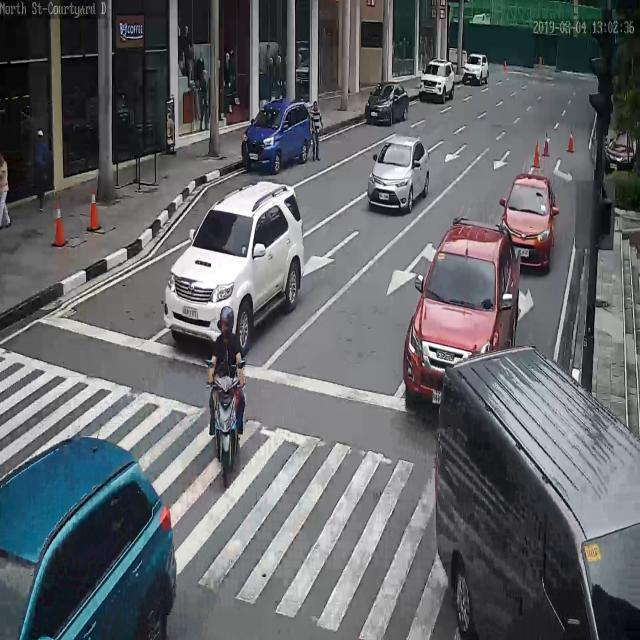bus: (434, 342, 640, 640)
car: (2, 443, 175, 639), (161, 183, 305, 348), (404, 227, 524, 398), (500, 175, 558, 270), (243, 100, 317, 173), (368, 136, 432, 213), (366, 82, 411, 129), (418, 60, 457, 106), (604, 129, 640, 175), (462, 54, 491, 86)
jeepney: (210, 305, 244, 486)
